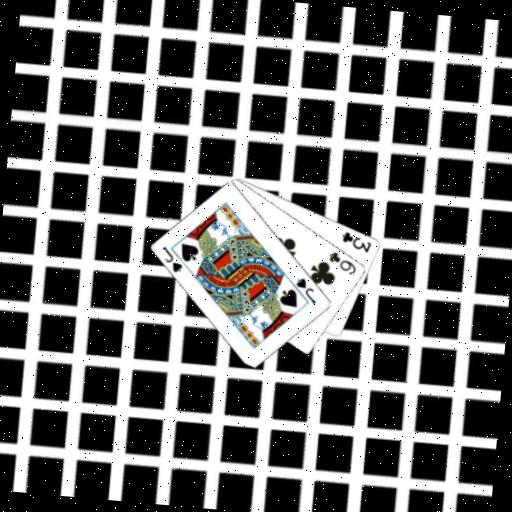3C: (338, 228, 375, 255)
6C: (326, 248, 360, 276)
JS: (158, 243, 187, 275), (291, 275, 320, 306)
